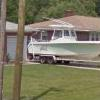Boat: (26, 20, 99, 76)
